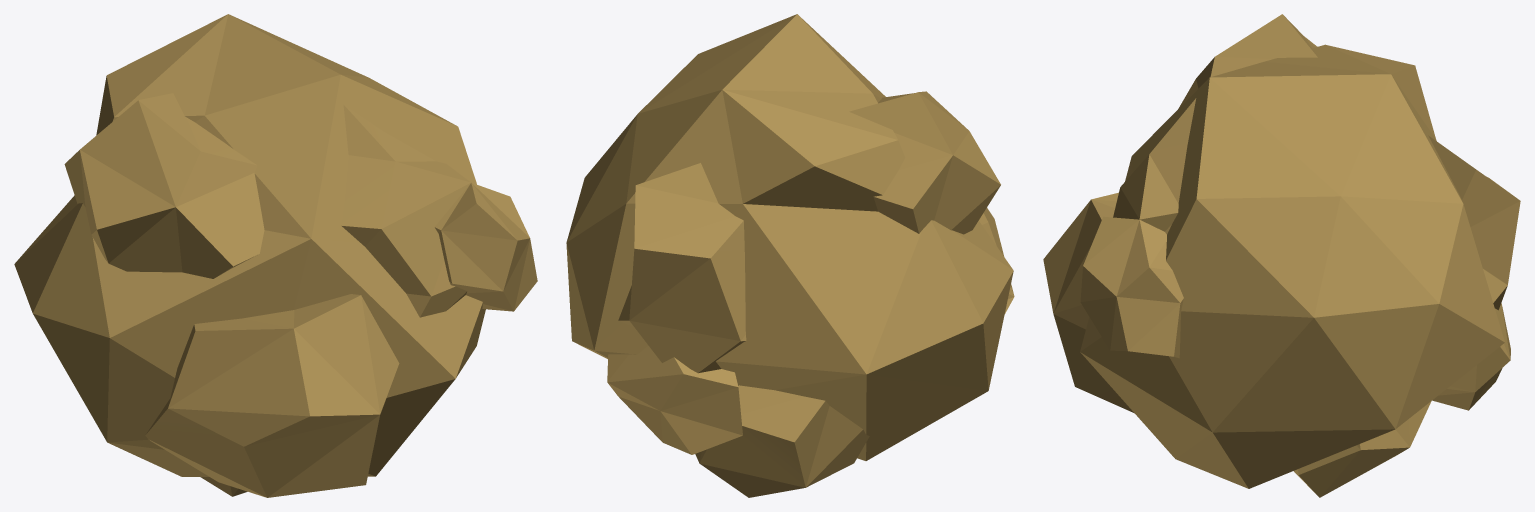
File: goldNugget.fbx
The picture shows the model from 3 angles, left to right: view 1: azimuth 30°, elevation 25°; view 2: azimuth 150°, elevation 25°; view 3: azimuth 270°, elevation 25°; orthographic projection. The views are drawn at different scales.
Visible parts, largest first — view 1: goldNugget; view 2: goldNugget; view 3: goldNugget.
Boxes of the visible parts, left/top/right/bottom form: goldNugget: left=14, top=14, right=537, bottom=497; goldNugget: left=566, top=14, right=1014, bottom=497; goldNugget: left=1043, top=14, right=1520, bottom=497.
Bounding box in the file's own units: 1.18 × 1.21 × 1.22.
Materials: 1 (1 with a texture image).
